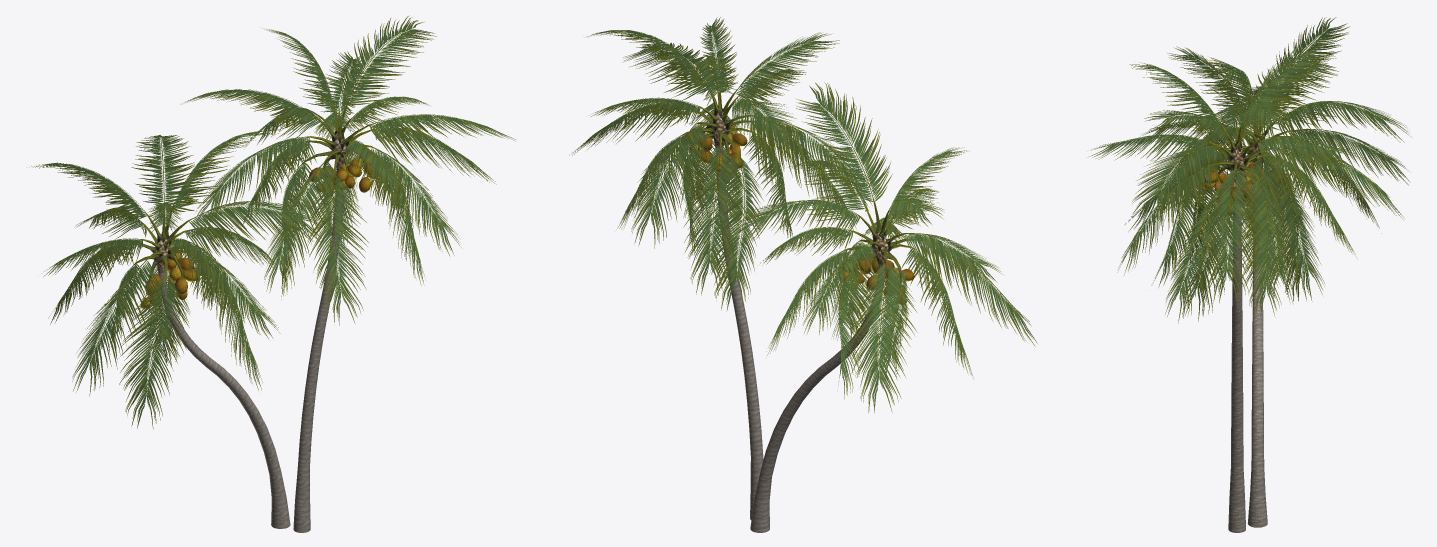
Rendered from coconut_palm.glb.
3 views of the same model, side by side, from view 1: azimuth 30°, elevation 25°; view 2: azimuth 150°, elevation 25°; view 3: azimuth 270°, elevation 25° (orthographic). The views are drawn at different scales.
Visible parts, largest first — view 1: Tree_2, Tree_0, Tree_3, Tree_4; view 2: Tree_2, Tree_0, Tree_3, Tree_4, Tree_1; view 3: Tree_2, Tree_0, Tree_3, Tree_4.
Boxes of the visible parts, x1,y1,x2,y2 form: Tree_2: (29, 15, 515, 429); Tree_0: (158, 170, 343, 532); Tree_3: (132, 98, 378, 295); Tree_4: (140, 154, 375, 308); Tree_2: (569, 17, 1037, 413); Tree_0: (716, 152, 885, 532); Tree_3: (679, 82, 917, 291); Tree_4: (685, 126, 914, 304); Tree_1: (712, 112, 888, 269); Tree_2: (1089, 17, 1410, 323); Tree_0: (1228, 201, 1267, 532); Tree_3: (1204, 112, 1296, 202); Tree_4: (1202, 162, 1283, 217).
Bounding box in the file's own units: 6.3 × 6.28 × 4.02.
5 materials, 5 textured.
